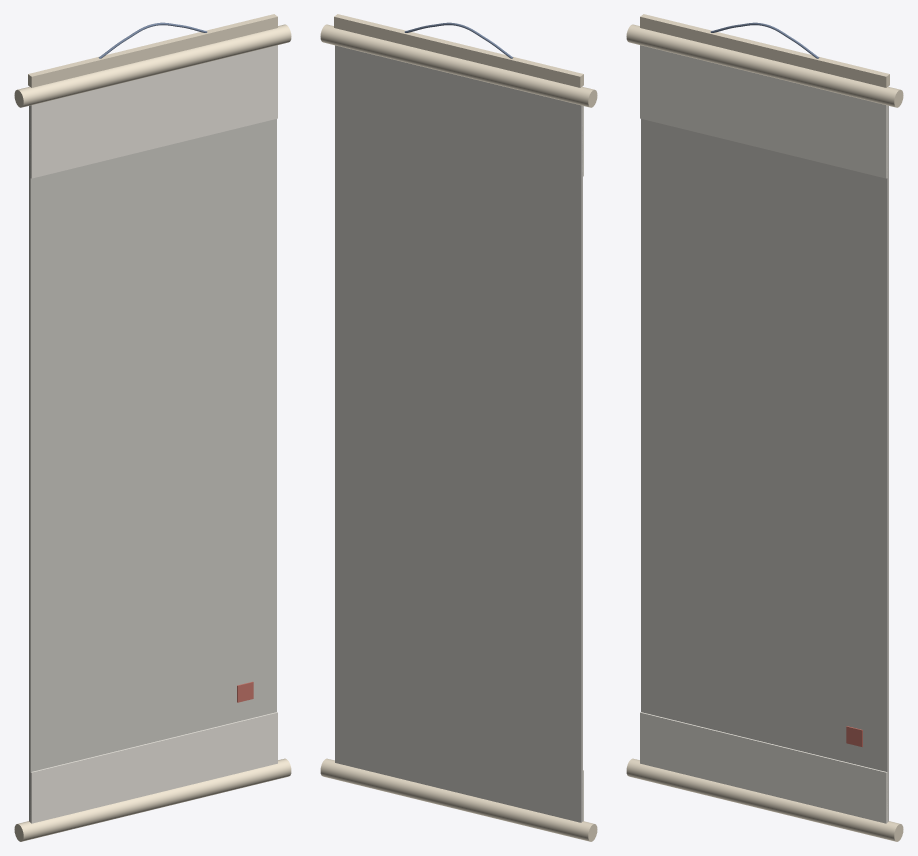
File: sg_art_scroll.glb
3 views of the same model, side by side, from view 1: azimuth 30°, elevation 25°; view 2: azimuth 150°, elevation 25°; view 3: azimuth 330°, elevation 25° (orthographic).
Parts seen in each view (by area): view 1: canvas, mountt, mountb, rollt, rollb, bar; view 2: canvas, rollt, rollb, bar; view 3: canvas, mountt, mountb, rollt, rollb, bar.
Boxes of the visible parts, <box> form: canvas: <box>29,105,276,821</box>; mountt: <box>30,45,277,178</box>; mountb: <box>30,712,277,823</box>; rollt: <box>14,24,291,107</box>; rollb: <box>14,758,291,841</box>; bar: <box>28,14,277,87</box>; canvas: <box>335,45,582,822</box>; rollt: <box>320,24,597,107</box>; rollb: <box>320,758,597,841</box>; bar: <box>334,14,583,87</box>; canvas: <box>641,105,888,821</box>; mountt: <box>640,45,887,178</box>; mountb: <box>640,712,887,823</box>; rollt: <box>626,24,903,107</box>; rollb: <box>626,758,903,841</box>; bar: <box>640,14,889,87</box>.
Bounding box in the file's own units: 0.5 × 1.4 × 0.03.
